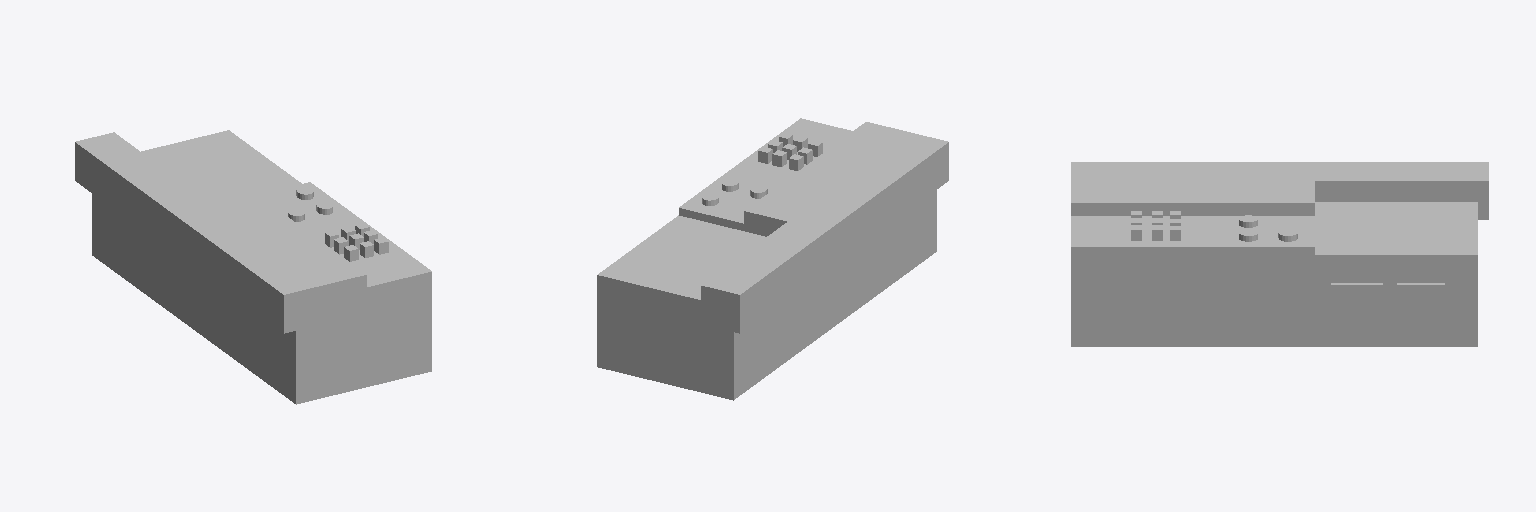
File: InteractableItem_Recorder_OBJ.obj
The picture shows the model from 3 angles: view 1: azimuth 30°, elevation 25°; view 2: azimuth 150°, elevation 25°; view 3: azimuth 270°, elevation 25°; orthographic projection.
Visible parts, largest first — view 1: pCube30; view 2: pCube30; view 3: pCube30.
Boxes of the visible parts, x1,y1,x2,y2 form: pCube30: [75, 130, 431, 404]; pCube30: [597, 118, 948, 400]; pCube30: [1071, 162, 1488, 346].
Bounding box in the file's own units: 0.0631 × 0.0443 × 0.149.